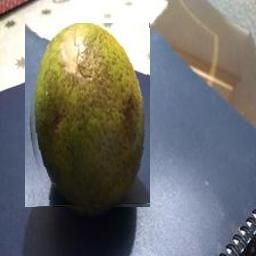Orange Semirotten: (26, 24, 151, 208)
